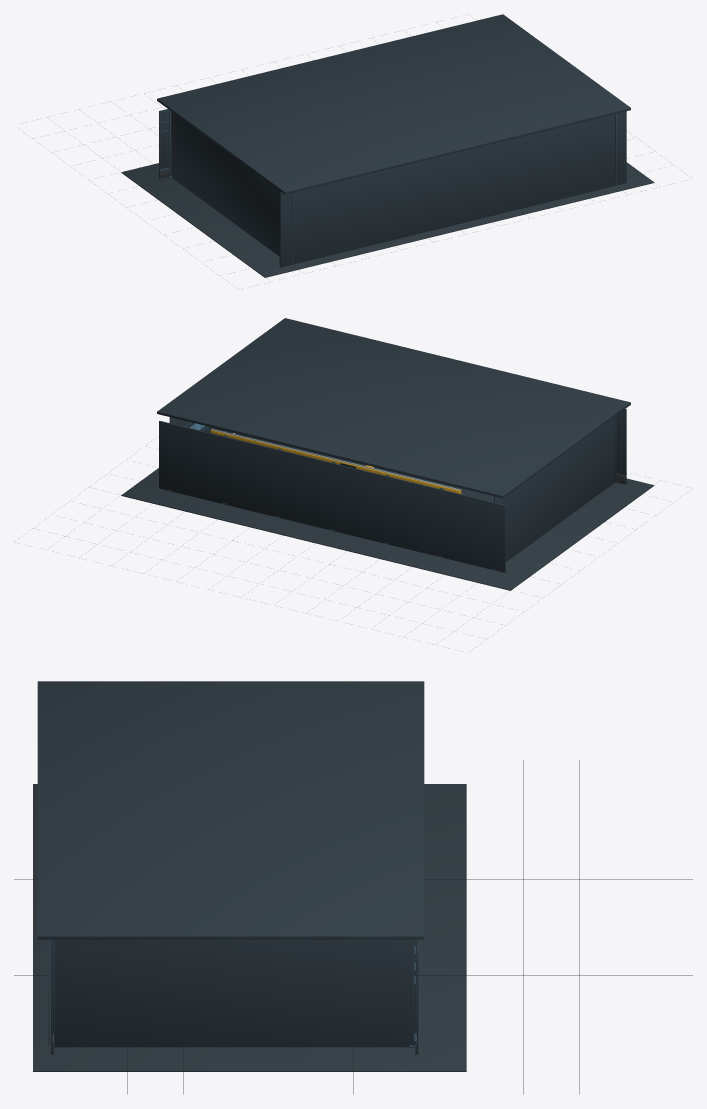
Rendered from factory_hall.glb.
3 renders of one model, top to bottom at view 1: azimuth 30°, elevation 25°; view 2: azimuth 150°, elevation 25°; view 3: azimuth 270°, elevation 25°, orthographic. The views are drawn at different scales.
Visible parts, largest first — view 1: Hall_RoofDeck, Hall_FrontWall, Hall_SideWalls, Hall_Floor, Hall_RearWall; view 2: Hall_RoofDeck, Hall_RearWall, Hall_Floor, Hall_SideWalls, Hall_Crane, Hall_FrontWall; view 3: Hall_RoofDeck, Hall_SideWalls, Hall_Floor.
Part boxes in pixels (x1,y1,x2,y2): Hall_RoofDeck: (157, 14, 630, 194); Hall_FrontWall: (279, 111, 626, 267); Hall_SideWalls: (171, 111, 616, 264); Hall_Floor: (47, 22, 654, 277); Hall_RearWall: (159, 109, 172, 178); Hall_RoofDeck: (157, 318, 630, 498); Hall_RearWall: (159, 421, 506, 572); Hall_Floor: (33, 436, 654, 639); Hall_SideWalls: (169, 417, 615, 562); Hall_Crane: (210, 429, 461, 493); Hall_FrontWall: (615, 409, 626, 484); Hall_RoofDeck: (37, 681, 424, 939); Hall_SideWalls: (48, 939, 417, 1047); Hall_Floor: (14, 760, 692, 1094).
Bounding box in the file's own units: 84.01 × 19.11 × 72.01.
